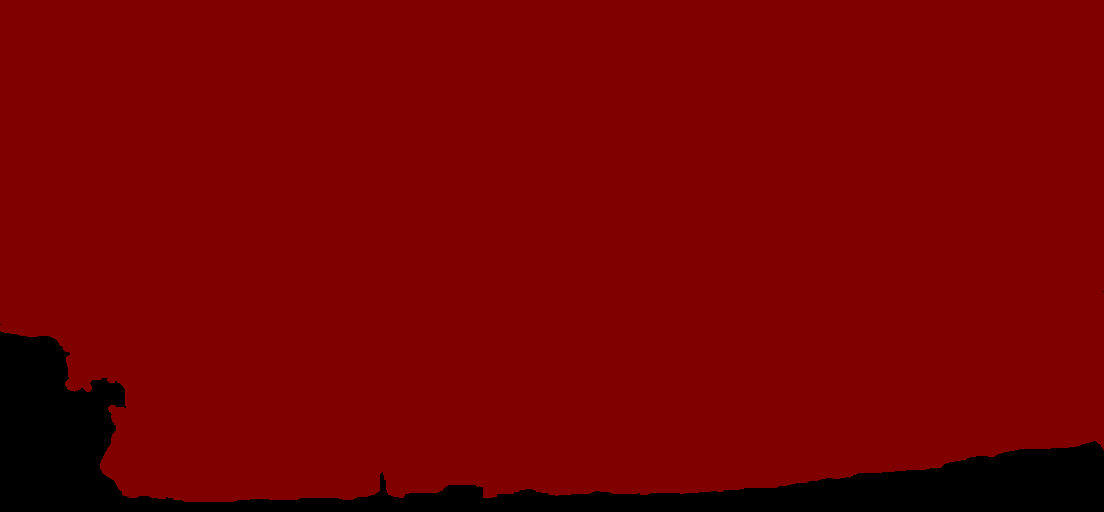Sky: (1, 1, 1103, 501)
